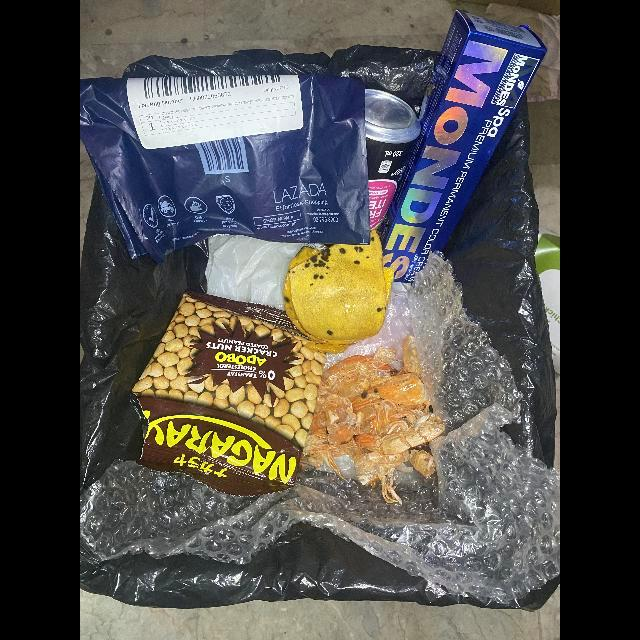aluminum: (364, 89, 421, 232)
cardboard: (375, 10, 547, 286)
food_wrapper: (132, 291, 327, 496)
left_over_food: (303, 335, 446, 505)
plastic_bag: (80, 73, 420, 263)
